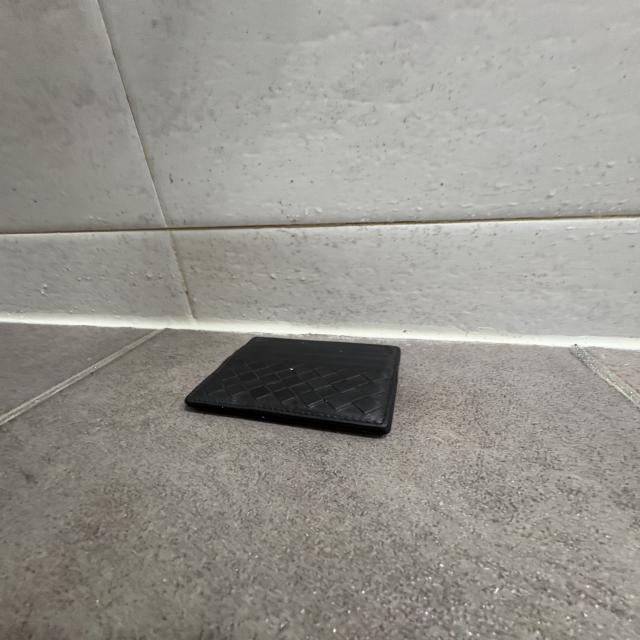wallet: (182, 335, 402, 443)
